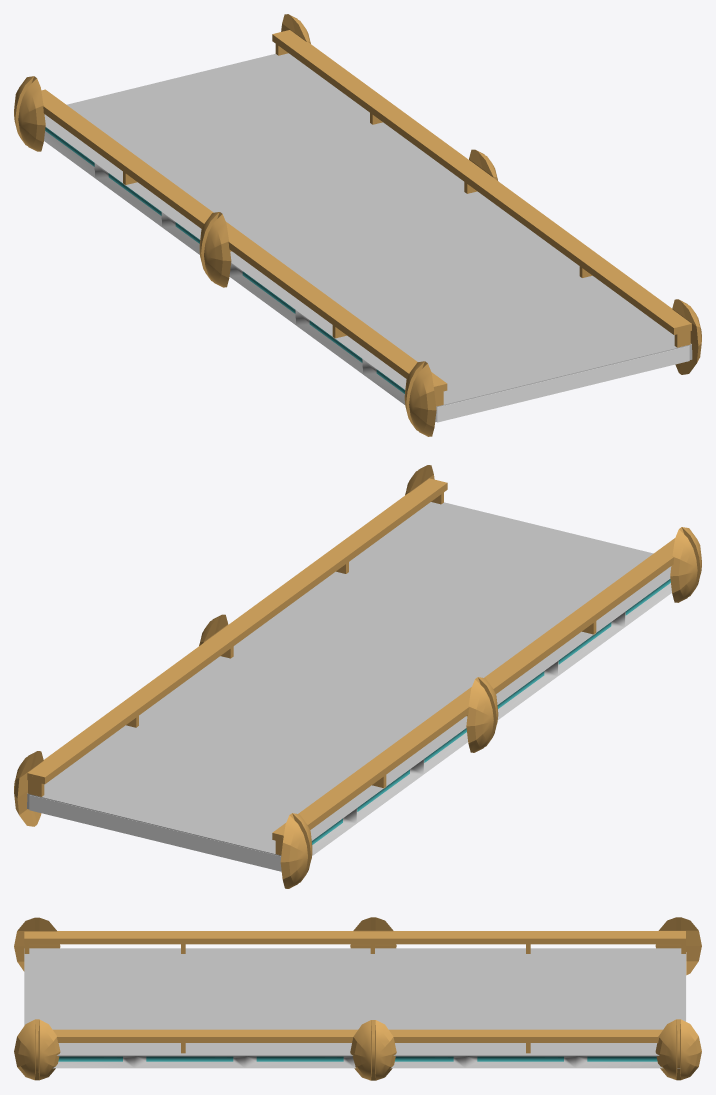
The model's file is bridge1export 1.fbx.
3 views of the same model, one above another, from view 1: azimuth 30°, elevation 25°; view 2: azimuth 150°, elevation 25°; view 3: azimuth 270°, elevation 25° (orthographic). The views are drawn at different scales.
Parts seen in each view (by area): view 1: bridgeexport:bridge, bridgeexport:railing1, bridgeexport:railing, bridgeexport:bridgeinterior, bridgeexport:railing_side_object1, bridgeexport:railing_side_object3, bridgeexport:railing_side_object5, bridgeexport:railing_side_object; view 2: bridgeexport:bridge, bridgeexport:railing1, bridgeexport:railing, bridgeexport:bridgeinterior, bridgeexport:railing_side_object3, bridgeexport:railing_side_object5, bridgeexport:railing_side_object1, bridgeexport:railing_side_object2; view 3: bridgeexport:bridge, bridgeexport:railing, bridgeexport:railing1, bridgeexport:railing_side_object, bridgeexport:railing_side_object2, bridgeexport:railing_side_object4, bridgeexport:railing_side_object3, bridgeexport:railing_side_object1, bridgeexport:railing_side_object5.
Part boxes in pixels (x1=…): bridgeexport:bridge: x1=44, y1=53, x2=692, y2=422; bridgeexport:railing1: x1=272, y1=30, x2=691, y2=334; bridgeexport:railing: x1=41, y1=89, x2=447, y2=393; bridgeexport:bridgeinterior: x1=437, y1=345, x2=689, y2=422; bridgeexport:railing_side_object1: x1=404, y1=361, x2=436, y2=436; bridgeexport:railing_side_object3: x1=14, y1=76, x2=45, y2=151; bridgeexport:railing_side_object5: x1=199, y1=212, x2=231, y2=287; bridgeexport:railing_side_object: x1=672, y1=299, x2=701, y2=374; bridgeexport:bridge: x1=27, y1=502, x2=671, y2=855; bridgeexport:railing1: x1=27, y1=478, x2=447, y2=784; bridgeexport:railing: x1=272, y1=538, x2=674, y2=840; bridgeexport:bridgeinterior: x1=29, y1=795, x2=281, y2=871; bridgeexport:railing_side_object3: x1=280, y1=813, x2=312, y2=888; bridgeexport:railing_side_object5: x1=466, y1=677, x2=498, y2=752; bridgeexport:railing_side_object1: x1=670, y1=527, x2=701, y2=602; bridgeexport:railing_side_object2: x1=14, y1=751, x2=43, y2=826; bridgeexport:bridge: x1=24, y1=948, x2=685, y2=1068; bridgeexport:railing: x1=24, y1=931, x2=685, y2=944; bridgeexport:railing1: x1=53, y1=1029, x2=662, y2=1042; bridgeexport:railing_side_object: x1=14, y1=1019, x2=60, y2=1080; bridgeexport:railing_side_object2: x1=655, y1=1019, x2=701, y2=1080; bridgeexport:railing_side_object4: x1=350, y1=1020, x2=396, y2=1080; bridgeexport:railing_side_object3: x1=655, y1=917, x2=701, y2=975; bridgeexport:railing_side_object1: x1=14, y1=917, x2=60, y2=971; bridgeexport:railing_side_object5: x1=350, y1=917, x2=396, y2=948.
Bounding box in the file's own units: 7.18 × 1.73 × 17.71.
